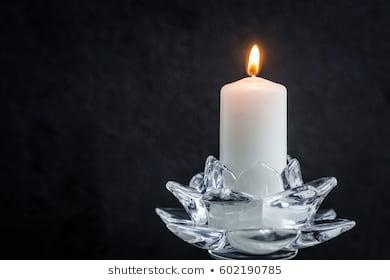fire: (243, 42, 263, 78)
